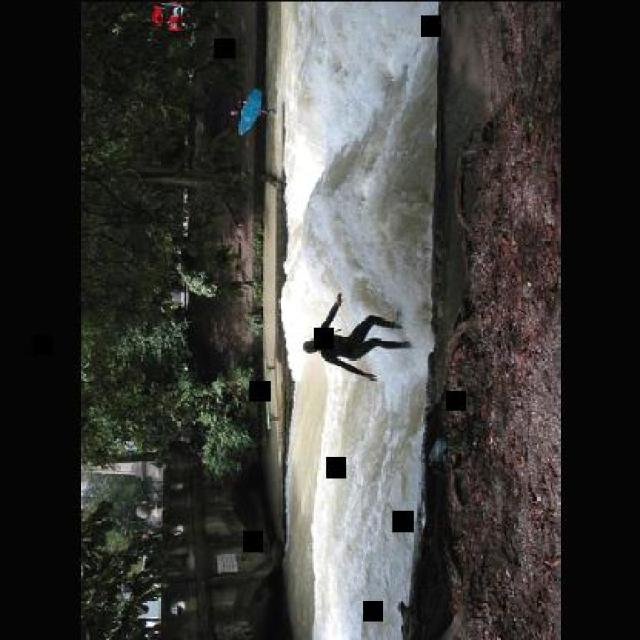unauthorized: (302, 290, 411, 382)
